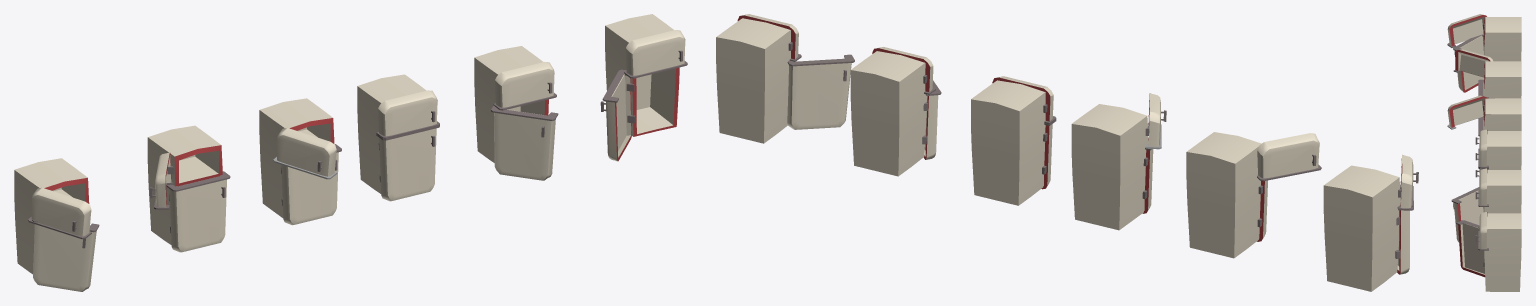
File: fridges.fbx
The picture shows the model from 3 angles, left to right: view 1: azimuth 30°, elevation 25°; view 2: azimuth 150°, elevation 25°; view 3: azimuth 270°, elevation 25°; orthographic projection. The views are drawn at different scales.
Parts seen in each view (by area): view 1: pCube65, pCube69, pCube64, pCube66, pCube67, pCube68; view 2: pCube64, pCube68, pCube69, pCube65, pCube67, pCube66; view 3: pCube64, pCube69, pCube65, pCube68, pCube67, pCube66.
Part boxes in pixels (x1=…): pCube65: x1=474, y1=46, x2=558, y2=180; pCube69: x1=14, y1=158, x2=99, y2=291; pCube64: x1=600, y1=14, x2=687, y2=161; pCube66: x1=357, y1=74, x2=439, y2=201; pCube67: x1=259, y1=98, x2=341, y2=225; pCube68: x1=147, y1=125, x2=230, y2=252; pCube64: x1=716, y1=14, x2=854, y2=143; pCube68: x1=1186, y1=132, x2=1321, y2=258; pCube69: x1=1323, y1=155, x2=1418, y2=291; pCube65: x1=850, y1=47, x2=941, y2=176; pCube67: x1=1071, y1=93, x2=1166, y2=230; pCube66: x1=971, y1=76, x2=1056, y2=205; pCube64: x1=1456, y1=212, x2=1521, y2=291; pCube69: x1=1447, y1=14, x2=1521, y2=92; pCube65: x1=1451, y1=168, x2=1521, y2=242; pCube68: x1=1453, y1=49, x2=1521, y2=98; pCube67: x1=1447, y1=95, x2=1521, y2=172; pCube66: x1=1475, y1=129, x2=1521, y2=186.
Bounding box in the file's own units: 15.02 × 2.21 × 2.16.
